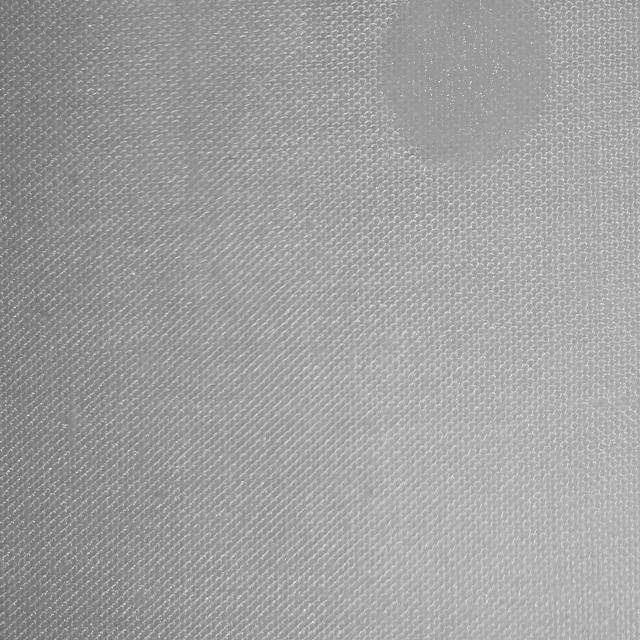Stain: (383, 0, 551, 170)
